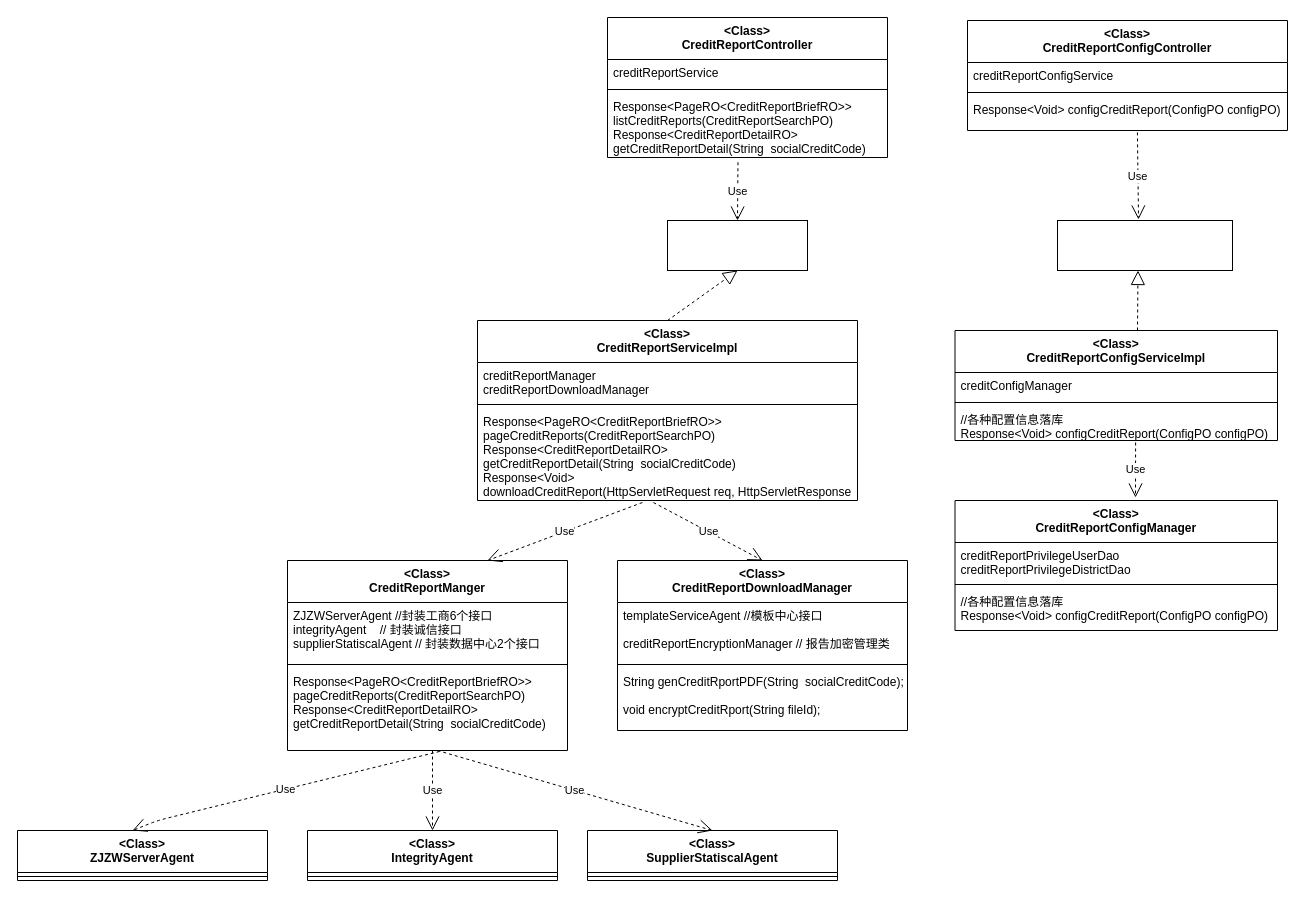
Image size: 1305x898. Some labels were removed from this diagram. Each missing label, with the centre of its shape:
«interface» CreditReportConfigService: [1144,245]
«interface» CreditReportService: [737,245]
